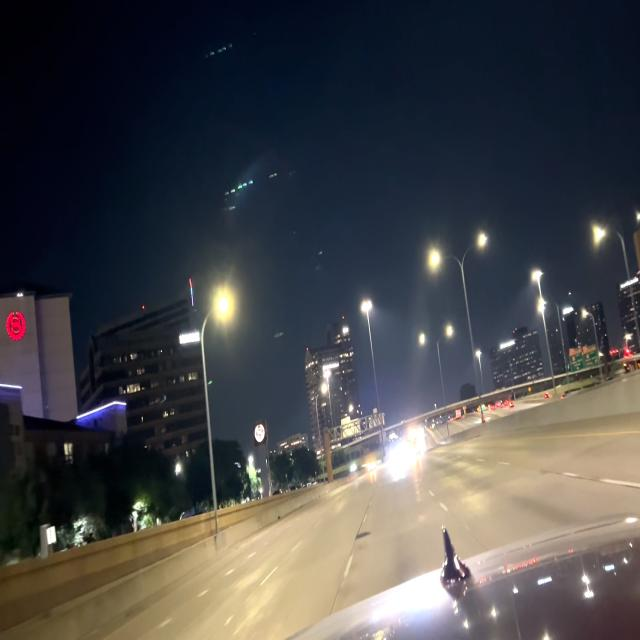back-of-sign: (342, 415, 361, 440), (368, 407, 385, 433)
